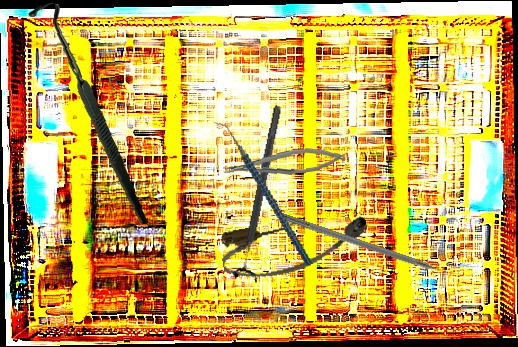Cannula: (217, 207, 373, 285)
Chopper: (211, 108, 314, 279)
Fixation Ring: (230, 102, 292, 284)
Hook Surgical: (13, 1, 163, 225), (280, 213, 458, 282)
Needle Holder: (222, 145, 346, 180)
